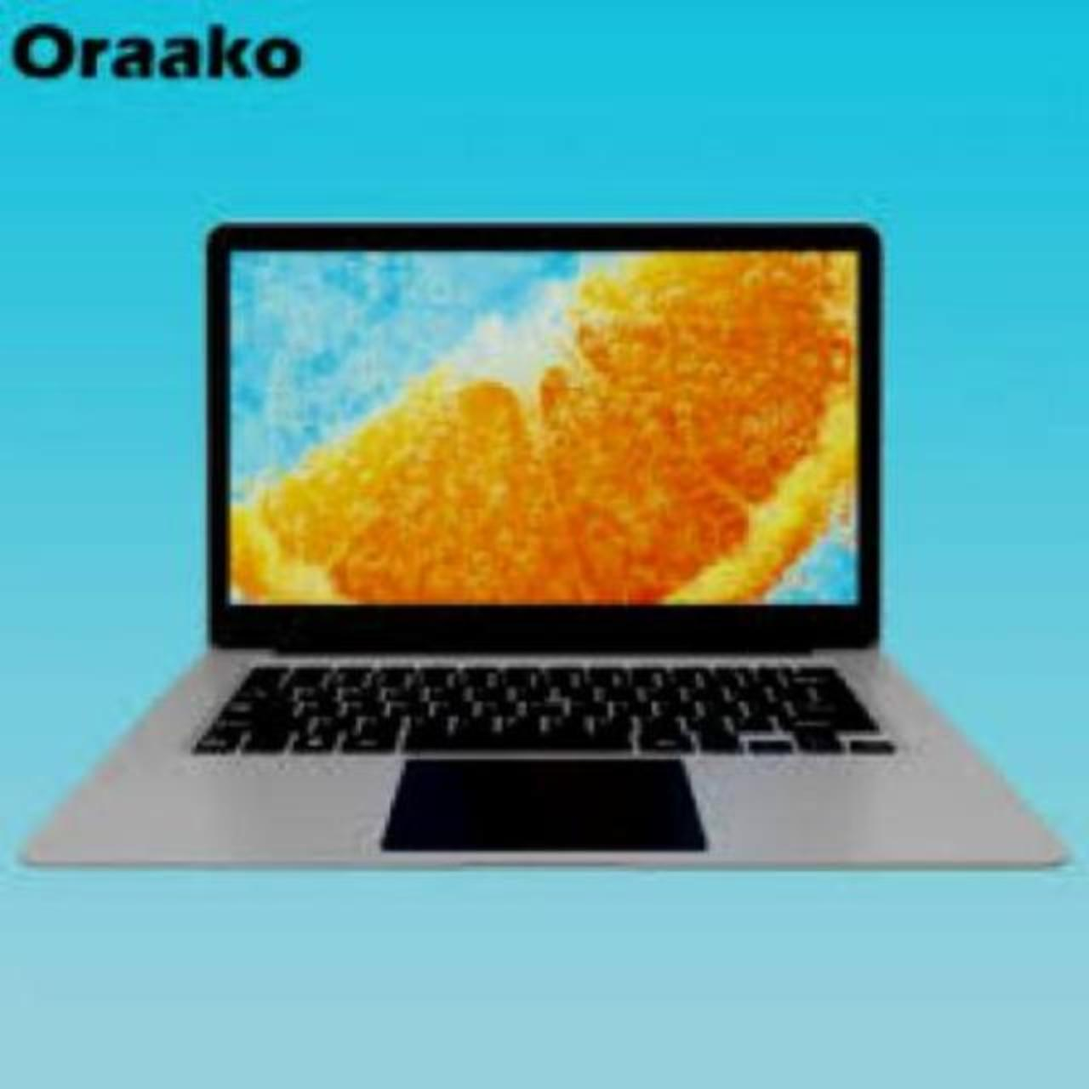laptop: (15, 178, 1080, 918)
